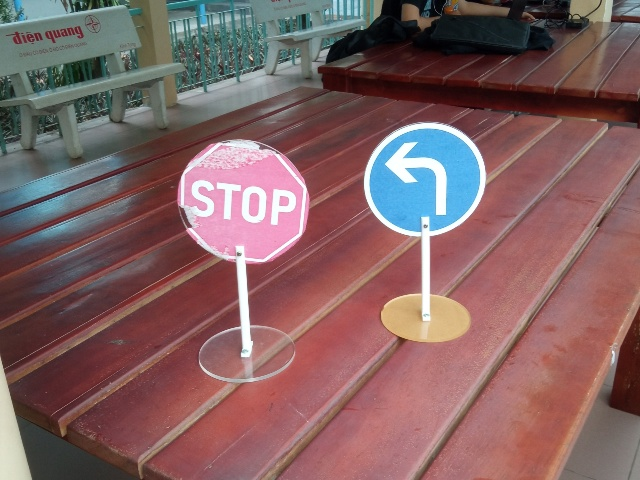Left_Sign: (364, 122, 486, 238)
Stop_Sign: (176, 139, 308, 266)
